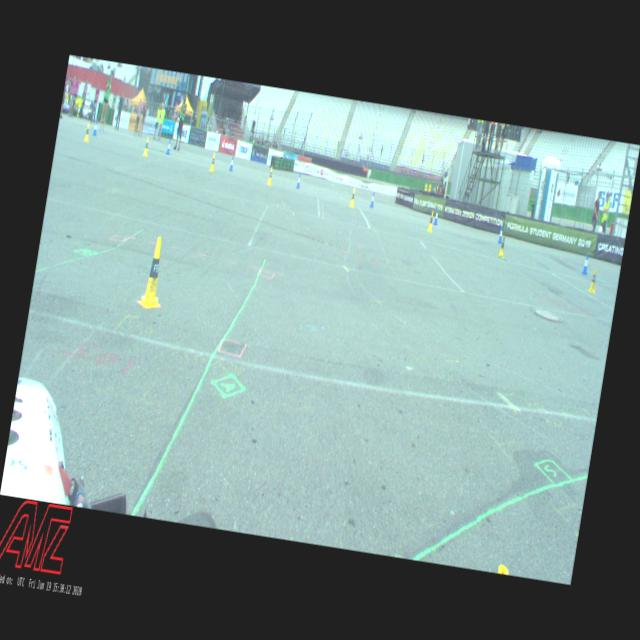blue_cone: (582, 253, 590, 274), (497, 226, 504, 244), (229, 156, 235, 172), (296, 172, 302, 188), (166, 139, 172, 155), (93, 120, 99, 136), (370, 191, 375, 207), (434, 209, 439, 225)
yellow_cone: (138, 237, 170, 310), (588, 267, 599, 294), (498, 235, 506, 258), (142, 136, 150, 158), (266, 166, 274, 186), (427, 212, 435, 232), (84, 122, 92, 142), (349, 188, 356, 208), (210, 152, 217, 172)
